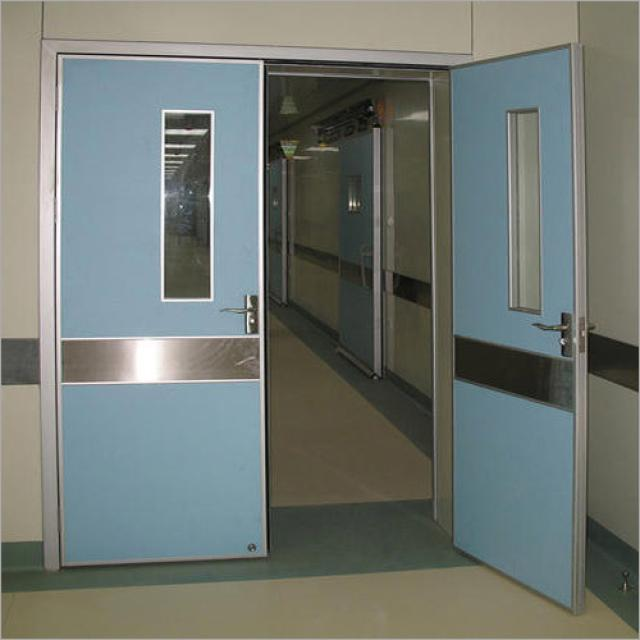door: (41, 40, 586, 621), (338, 129, 381, 379), (268, 159, 287, 305)
